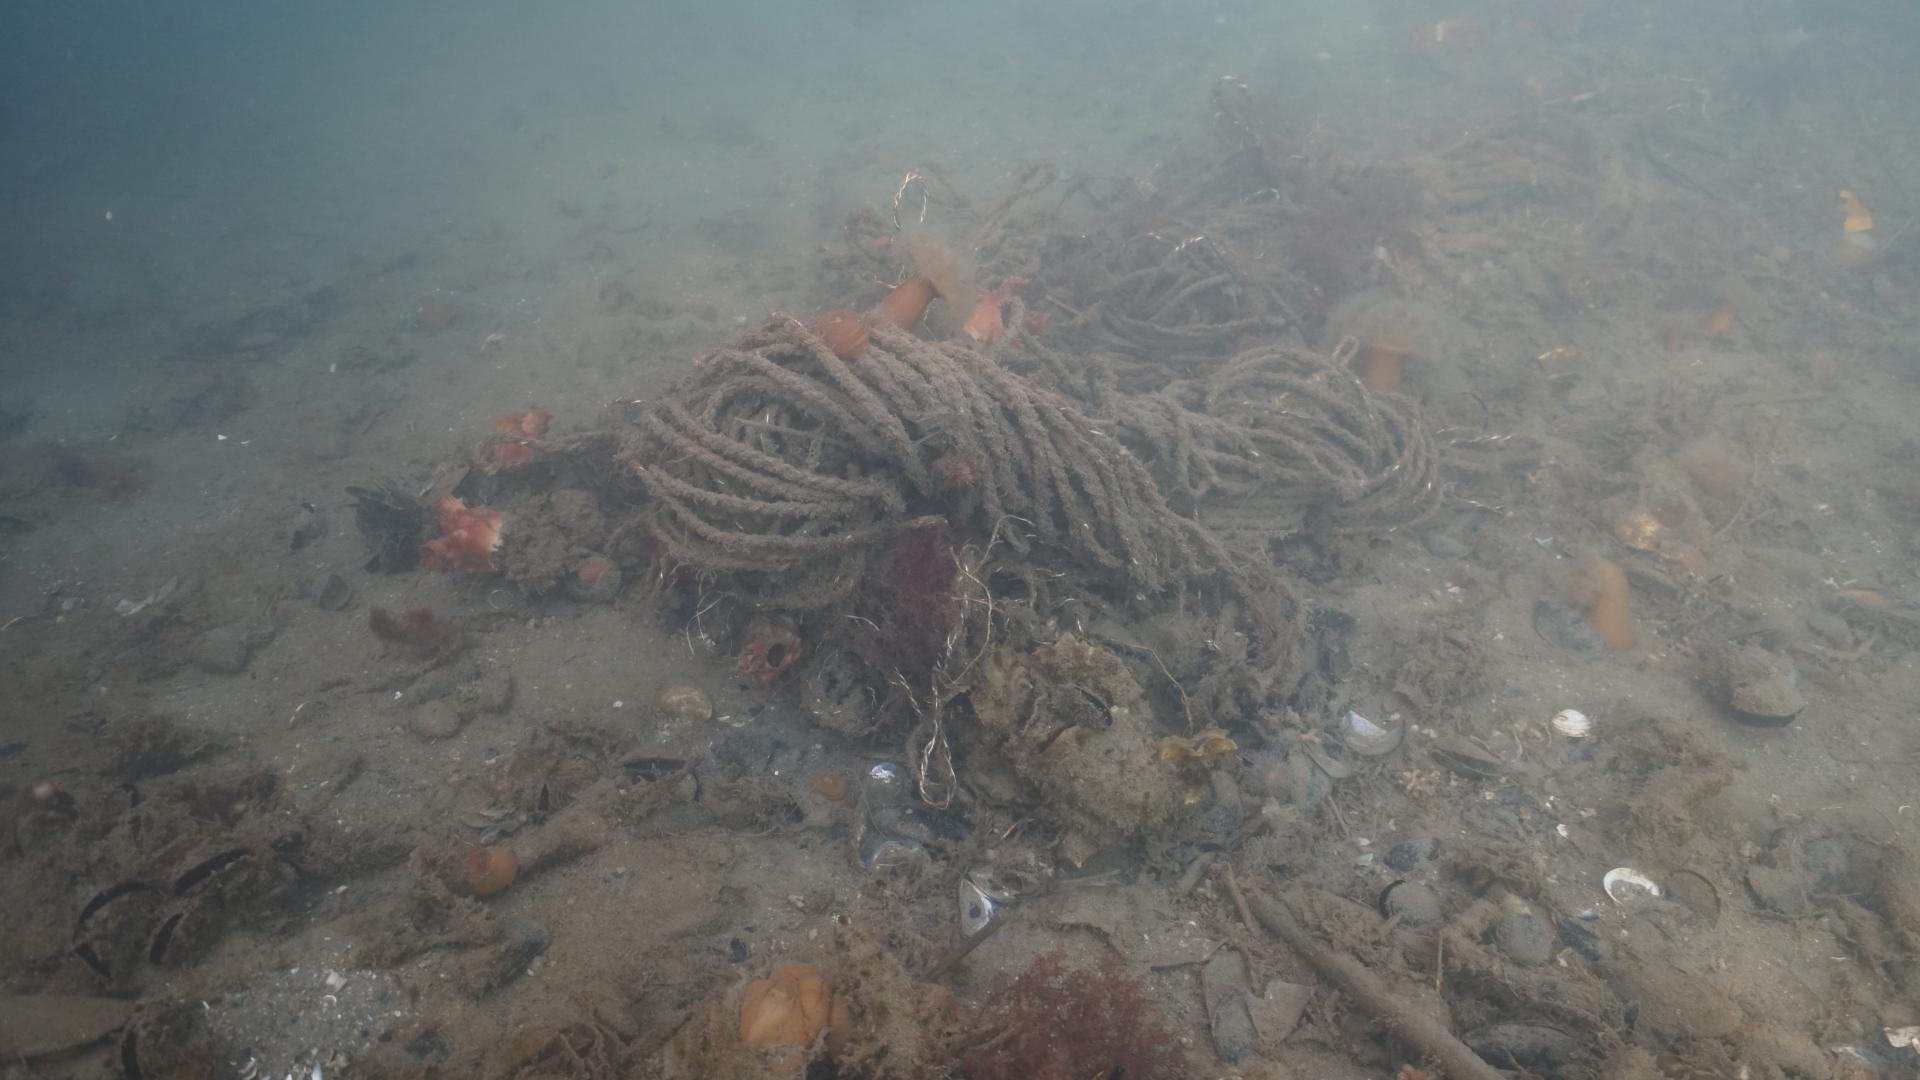bundle of ropes: (620, 311, 1523, 814)
